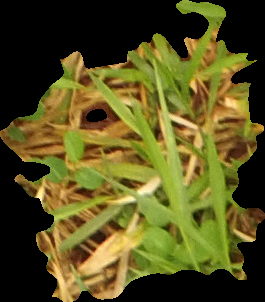grass: (1, 1, 264, 300)
